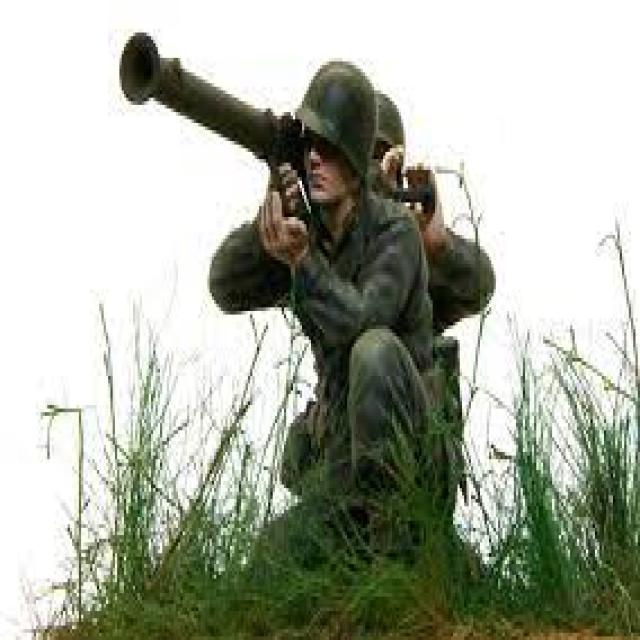bazooka: (102, 10, 424, 246)
